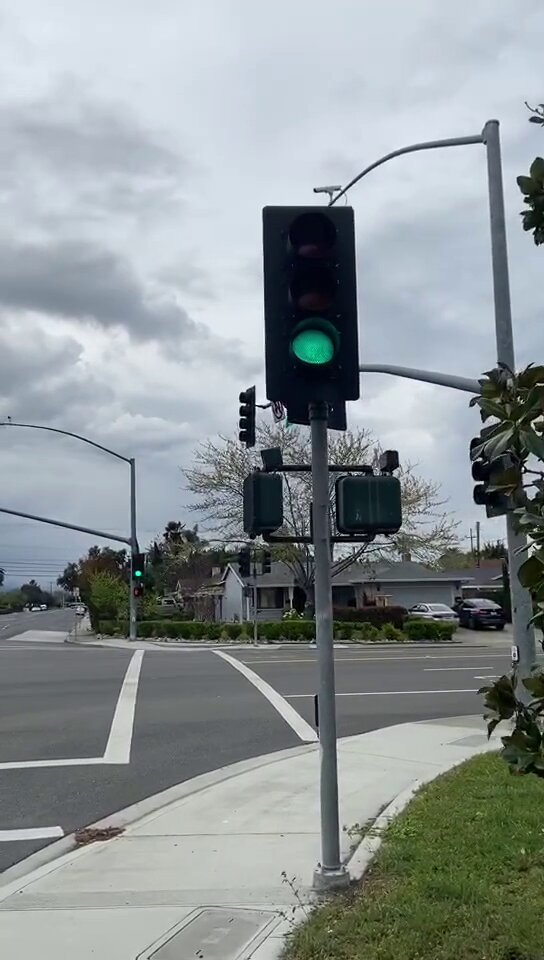green_light: (264, 207, 357, 395), (132, 552, 144, 579)
